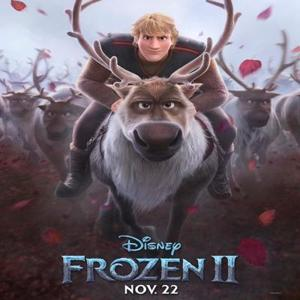sven: (90, 49, 231, 209)
